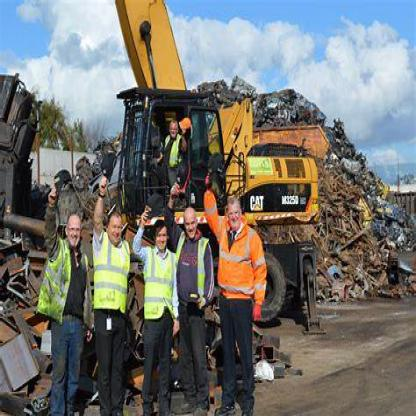person: (213, 171, 278, 415), (34, 174, 88, 414), (131, 172, 179, 406), (85, 160, 130, 406), (175, 195, 223, 405)
